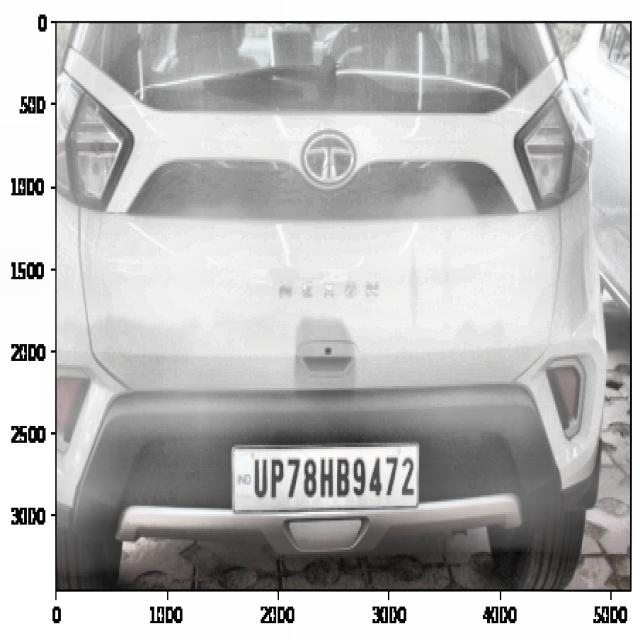license_plate: (246, 448, 420, 513)
